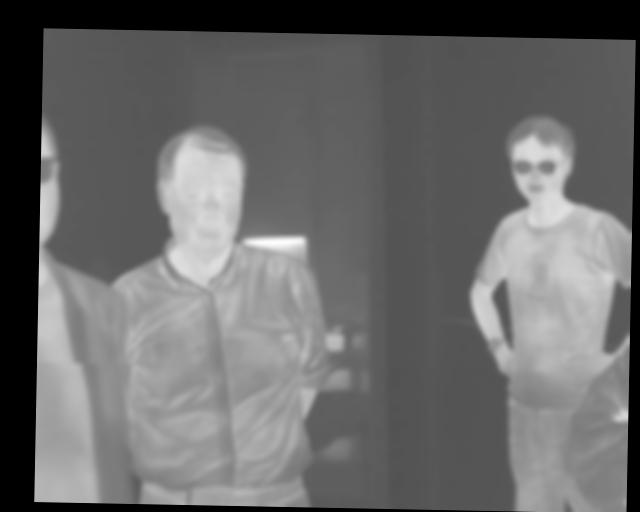face: (153, 123, 246, 254), (505, 113, 577, 205)
